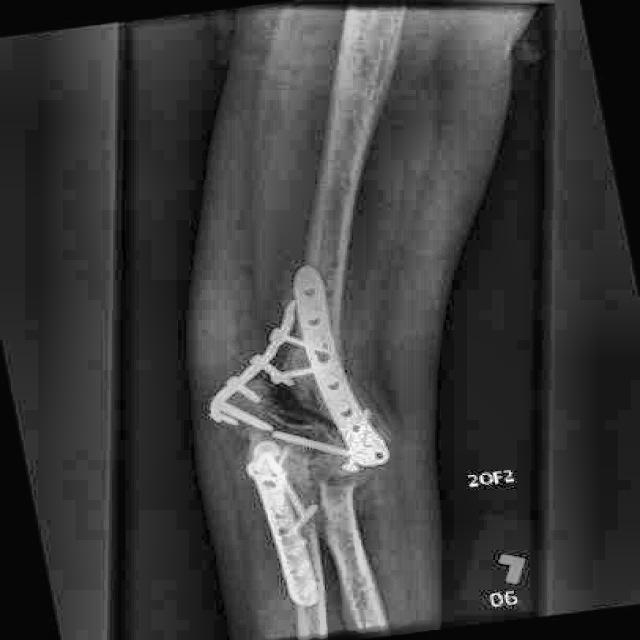elbow positive: (250, 363, 347, 452)
